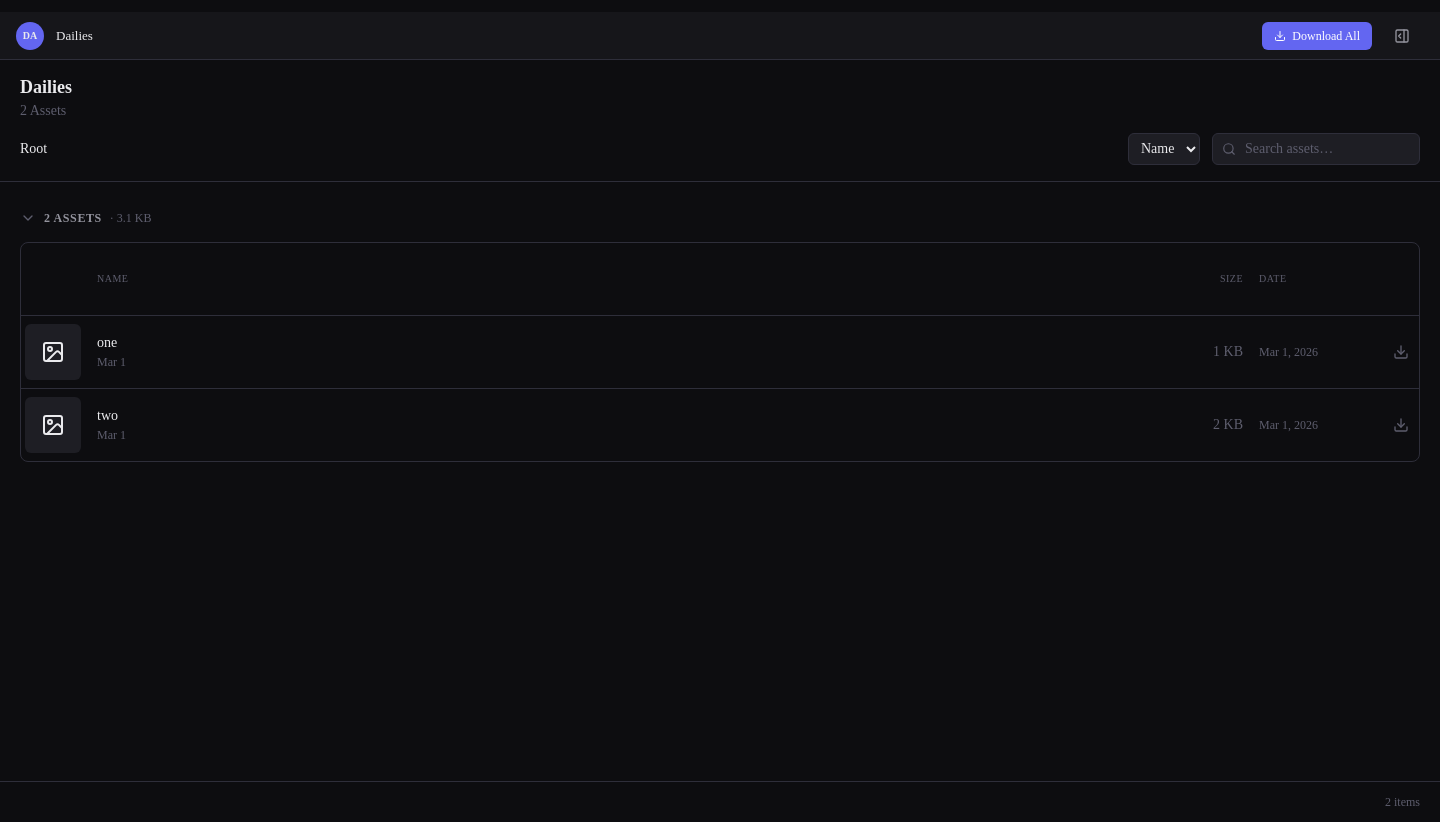
Test: below xl (phone / tablet) › tapping an asset opens it full-screen instead of selecting into a panel
Expected: the button "Download All" is shown, x1=1262 y1=22 x2=1372 y2=50
Click the text "one" at (107, 342), box x1=97 y1=335 x2=117 y2=350
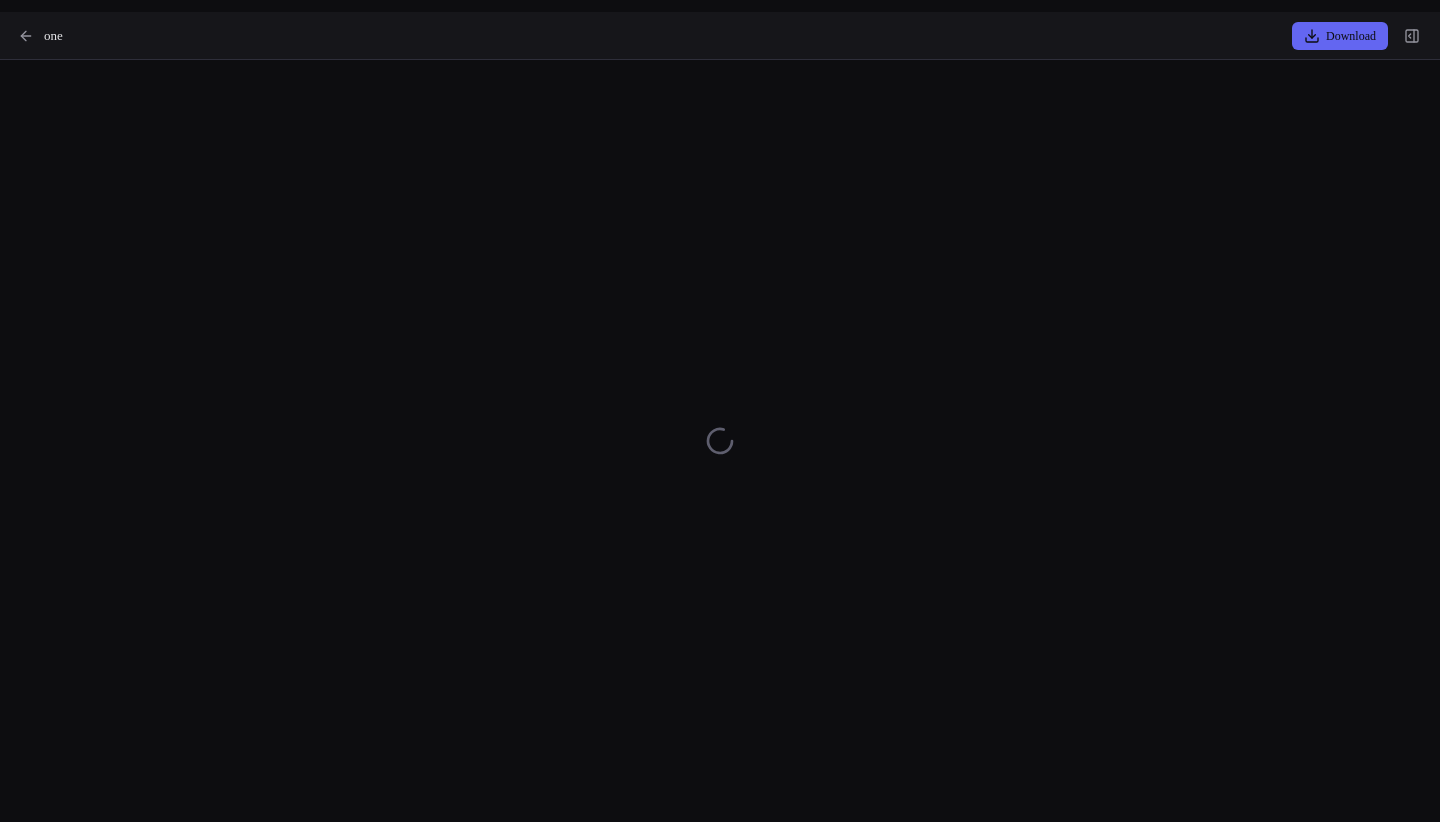
Expected: the button "Download All" is gone
Expected: the element with class "z-50" is shown
